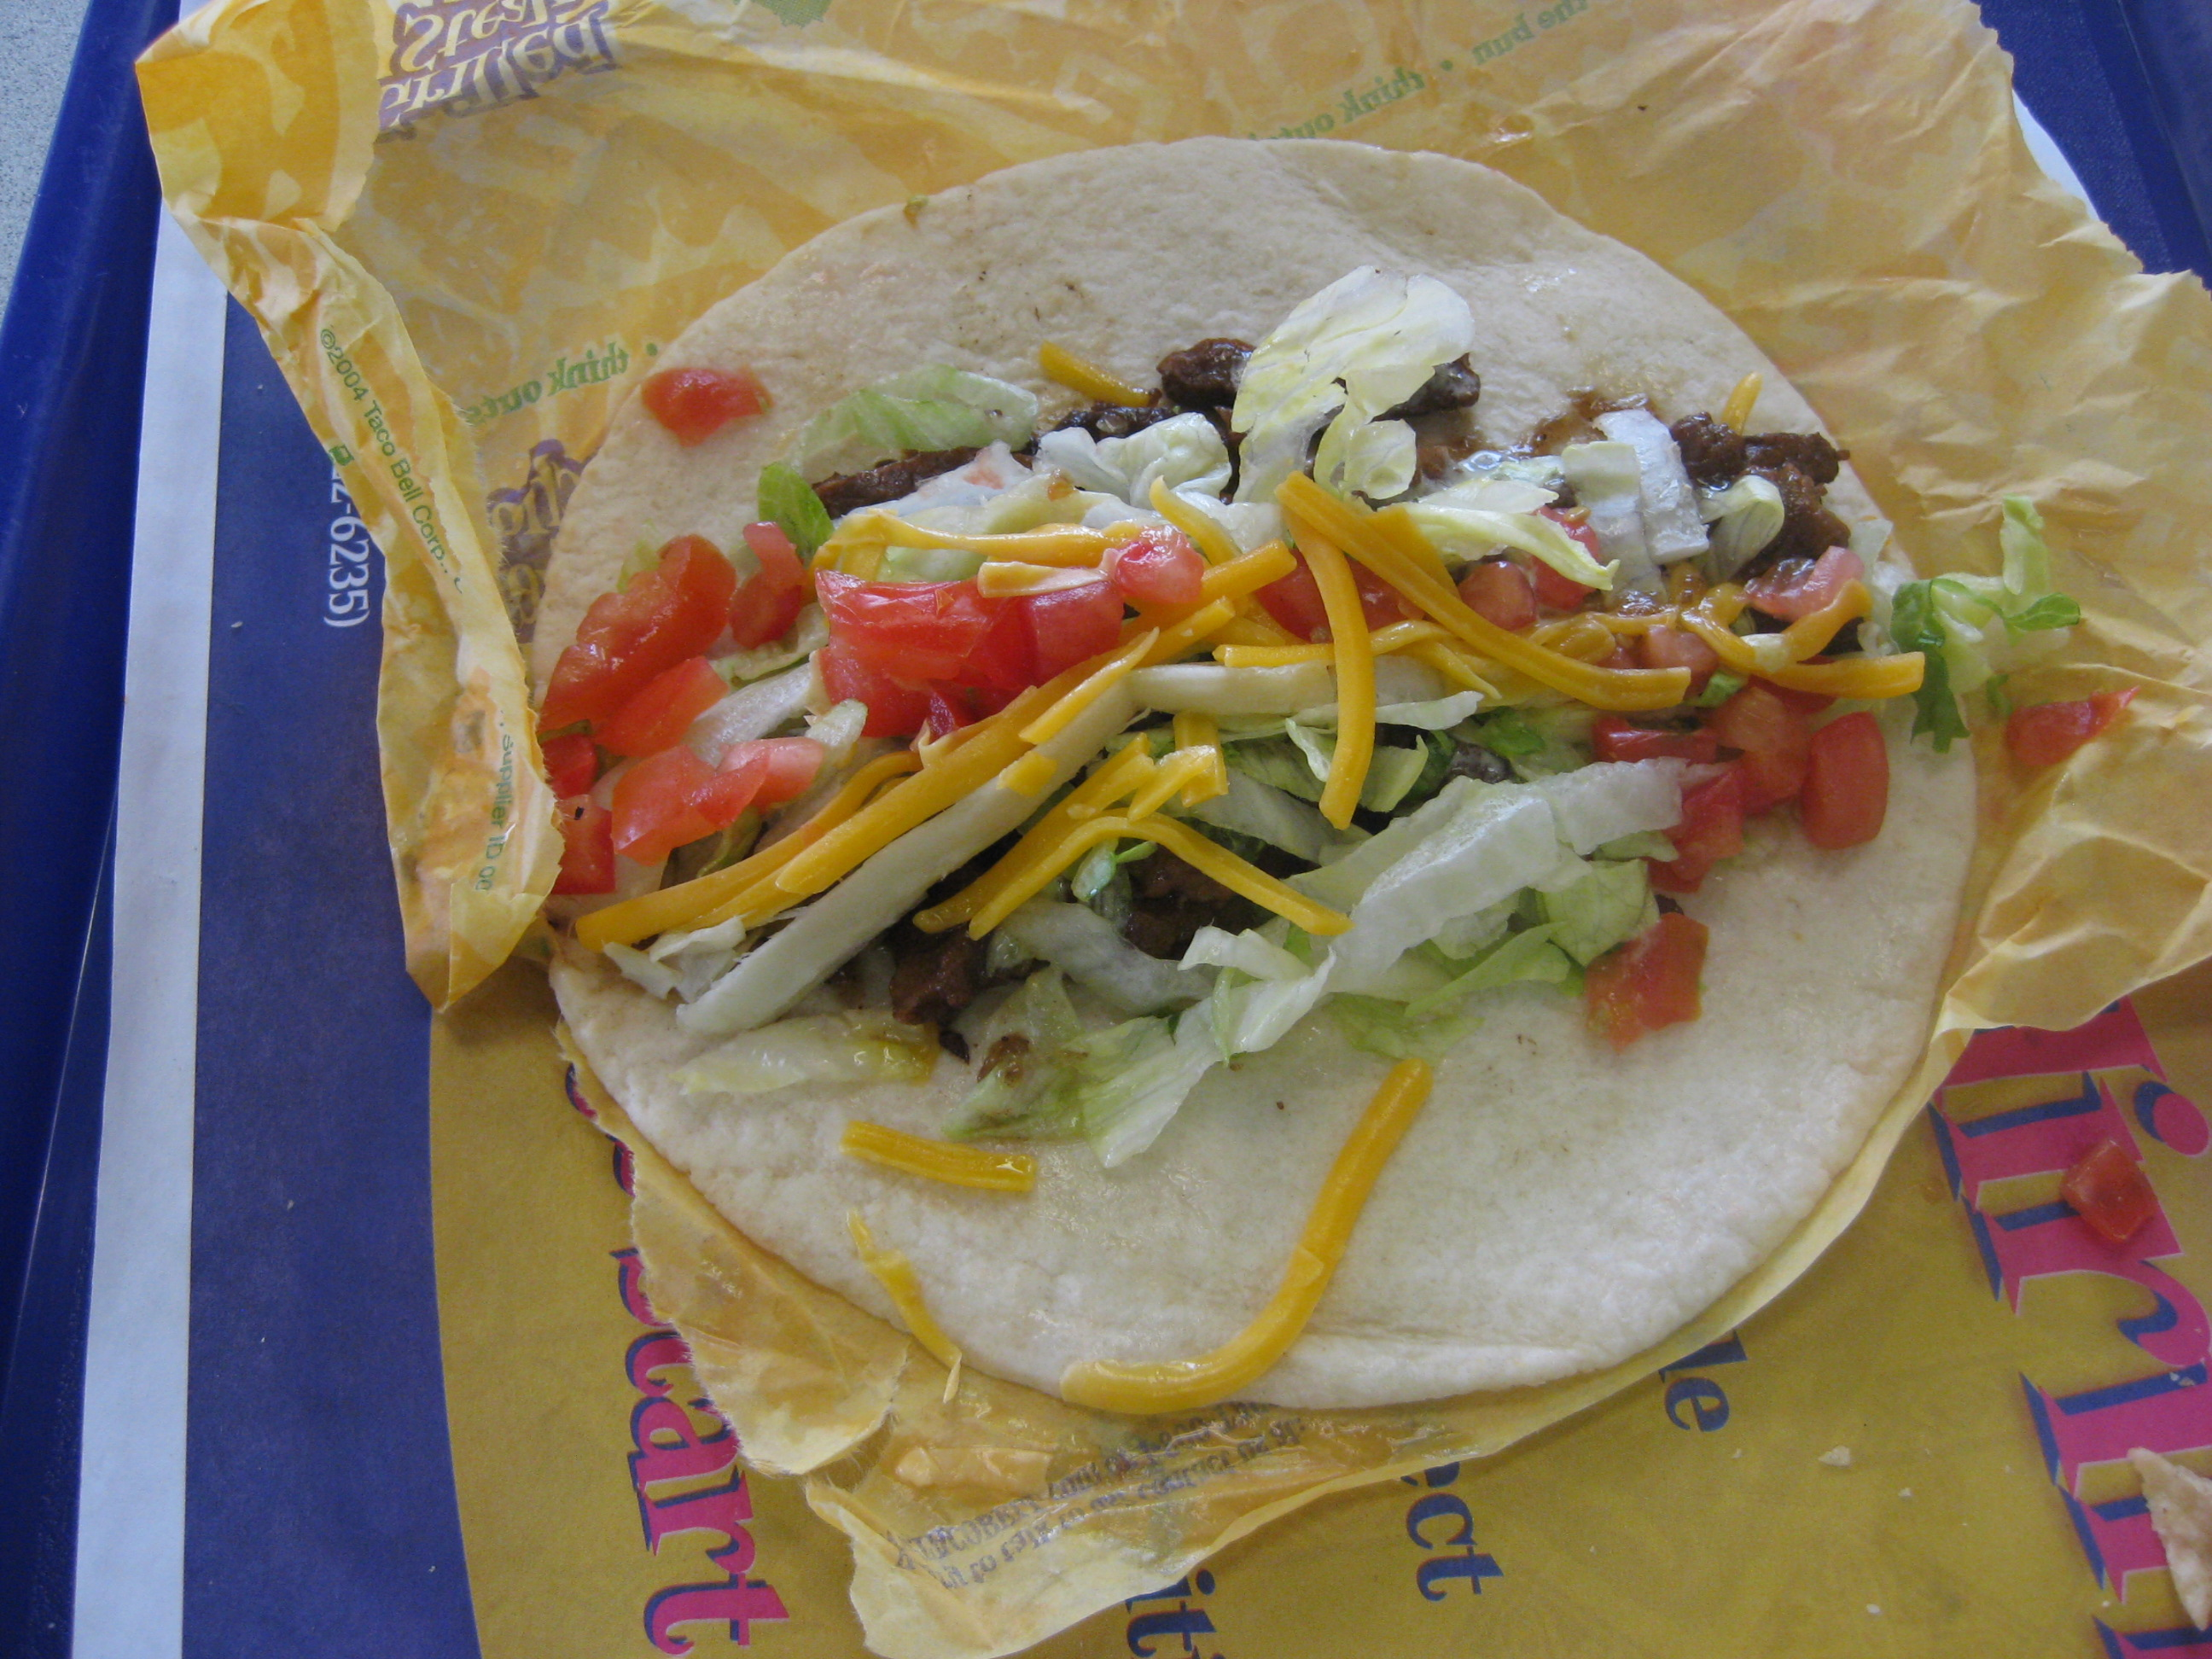taco: (522, 72, 2011, 1446)
